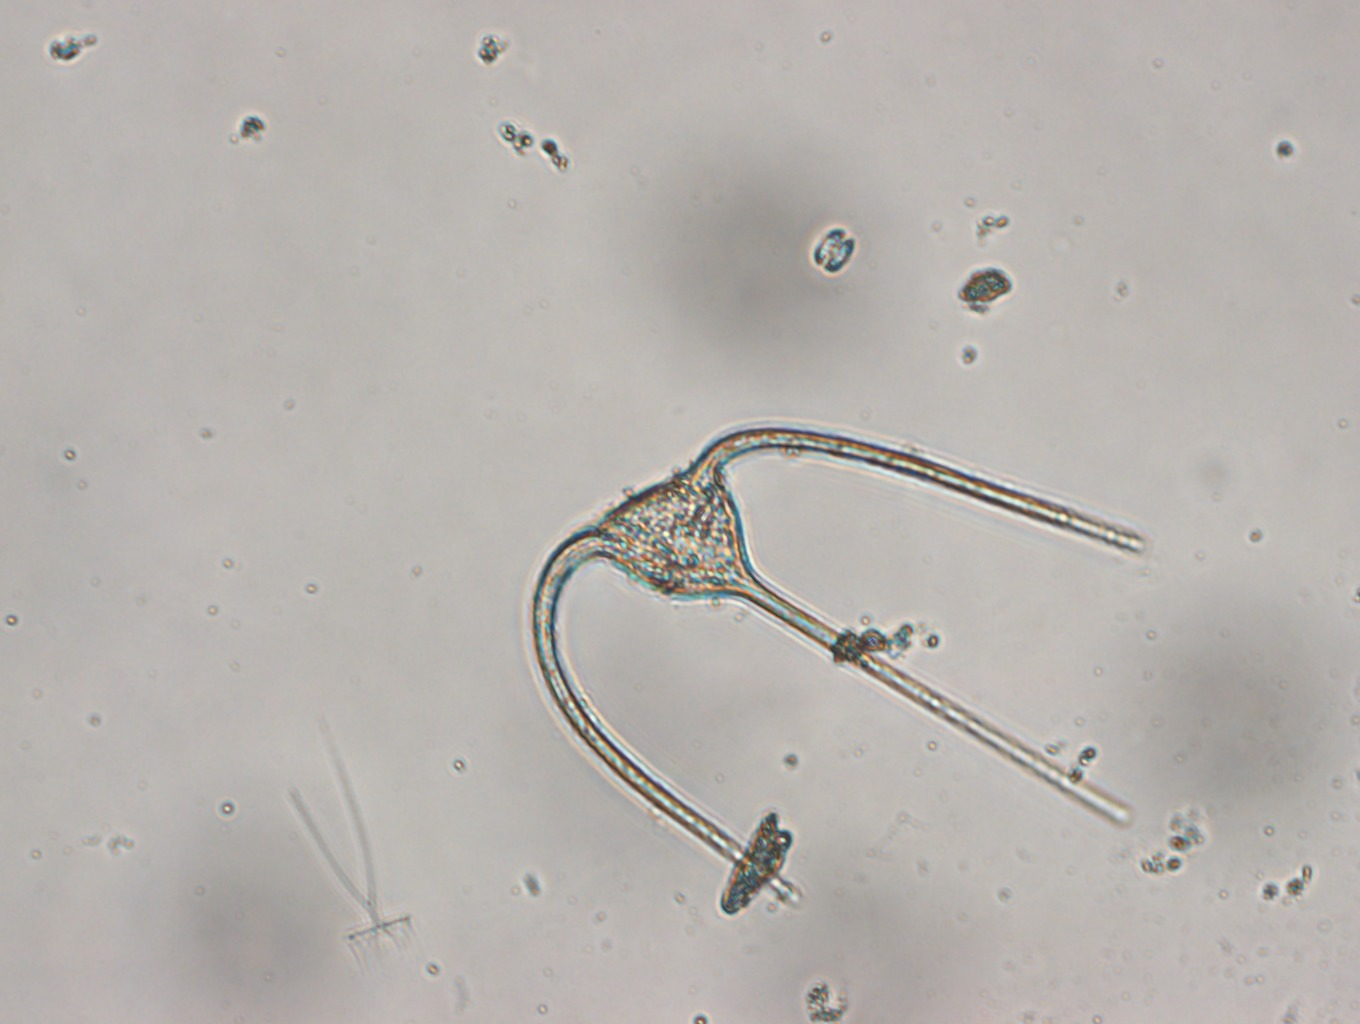ceratium trichoceros: (531, 426, 1154, 912)
